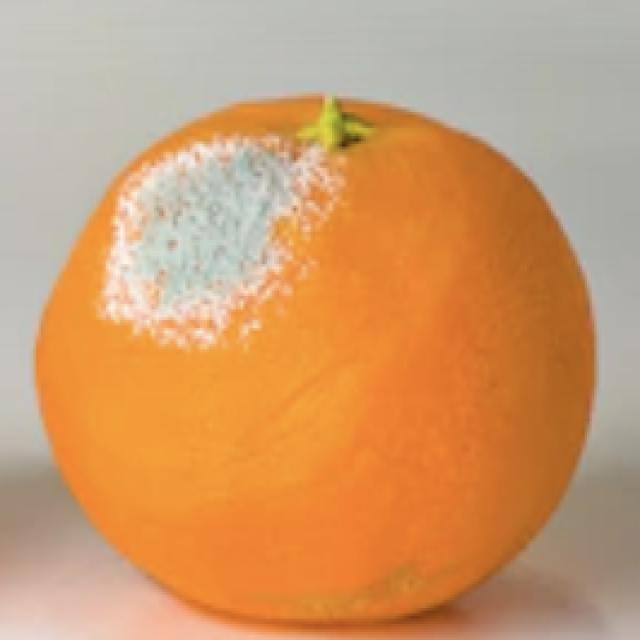sedikit-busuk: (36, 96, 593, 620), (106, 136, 342, 345)
